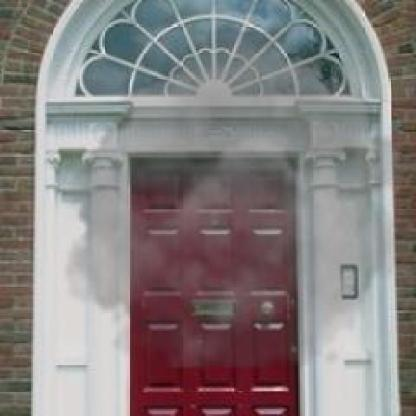Smoke: (52, 31, 414, 368)
